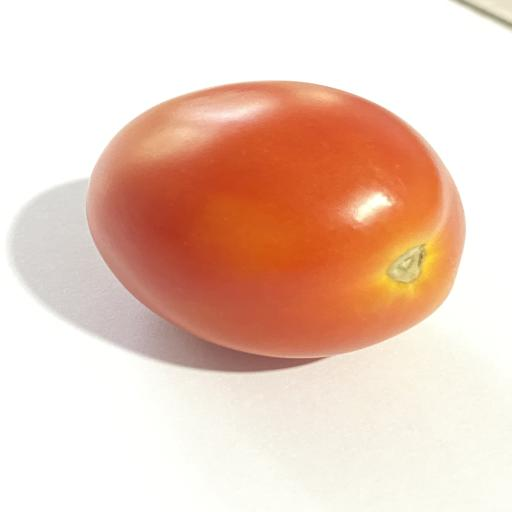ripe: (87, 81, 465, 358)
